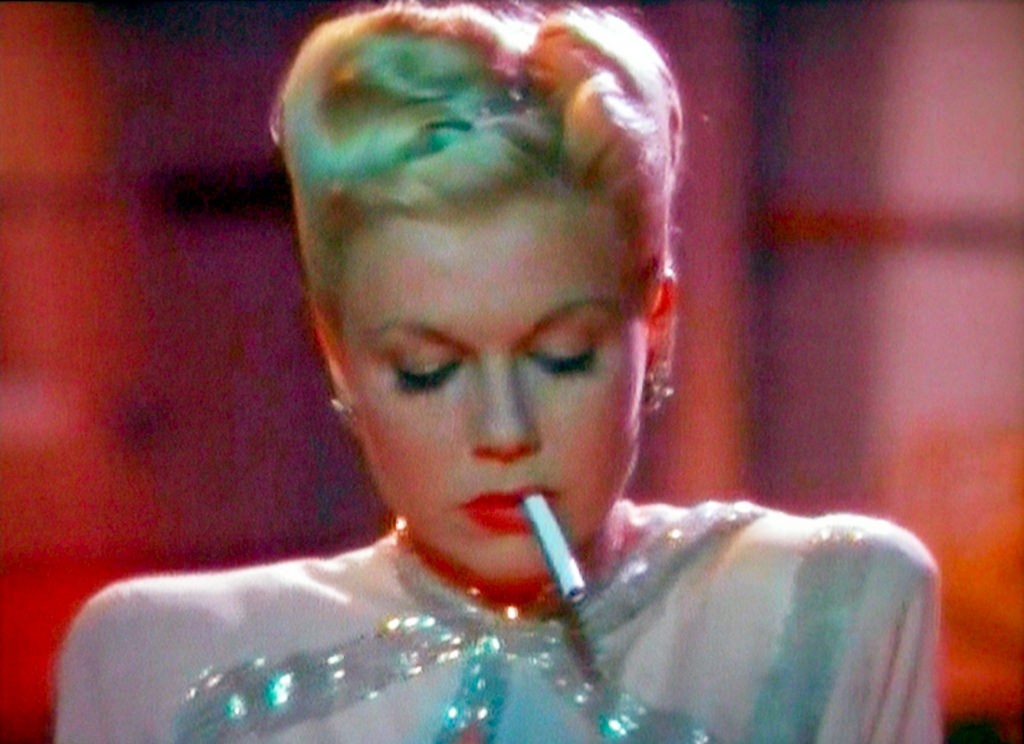cigarette: (508, 477, 611, 615)
